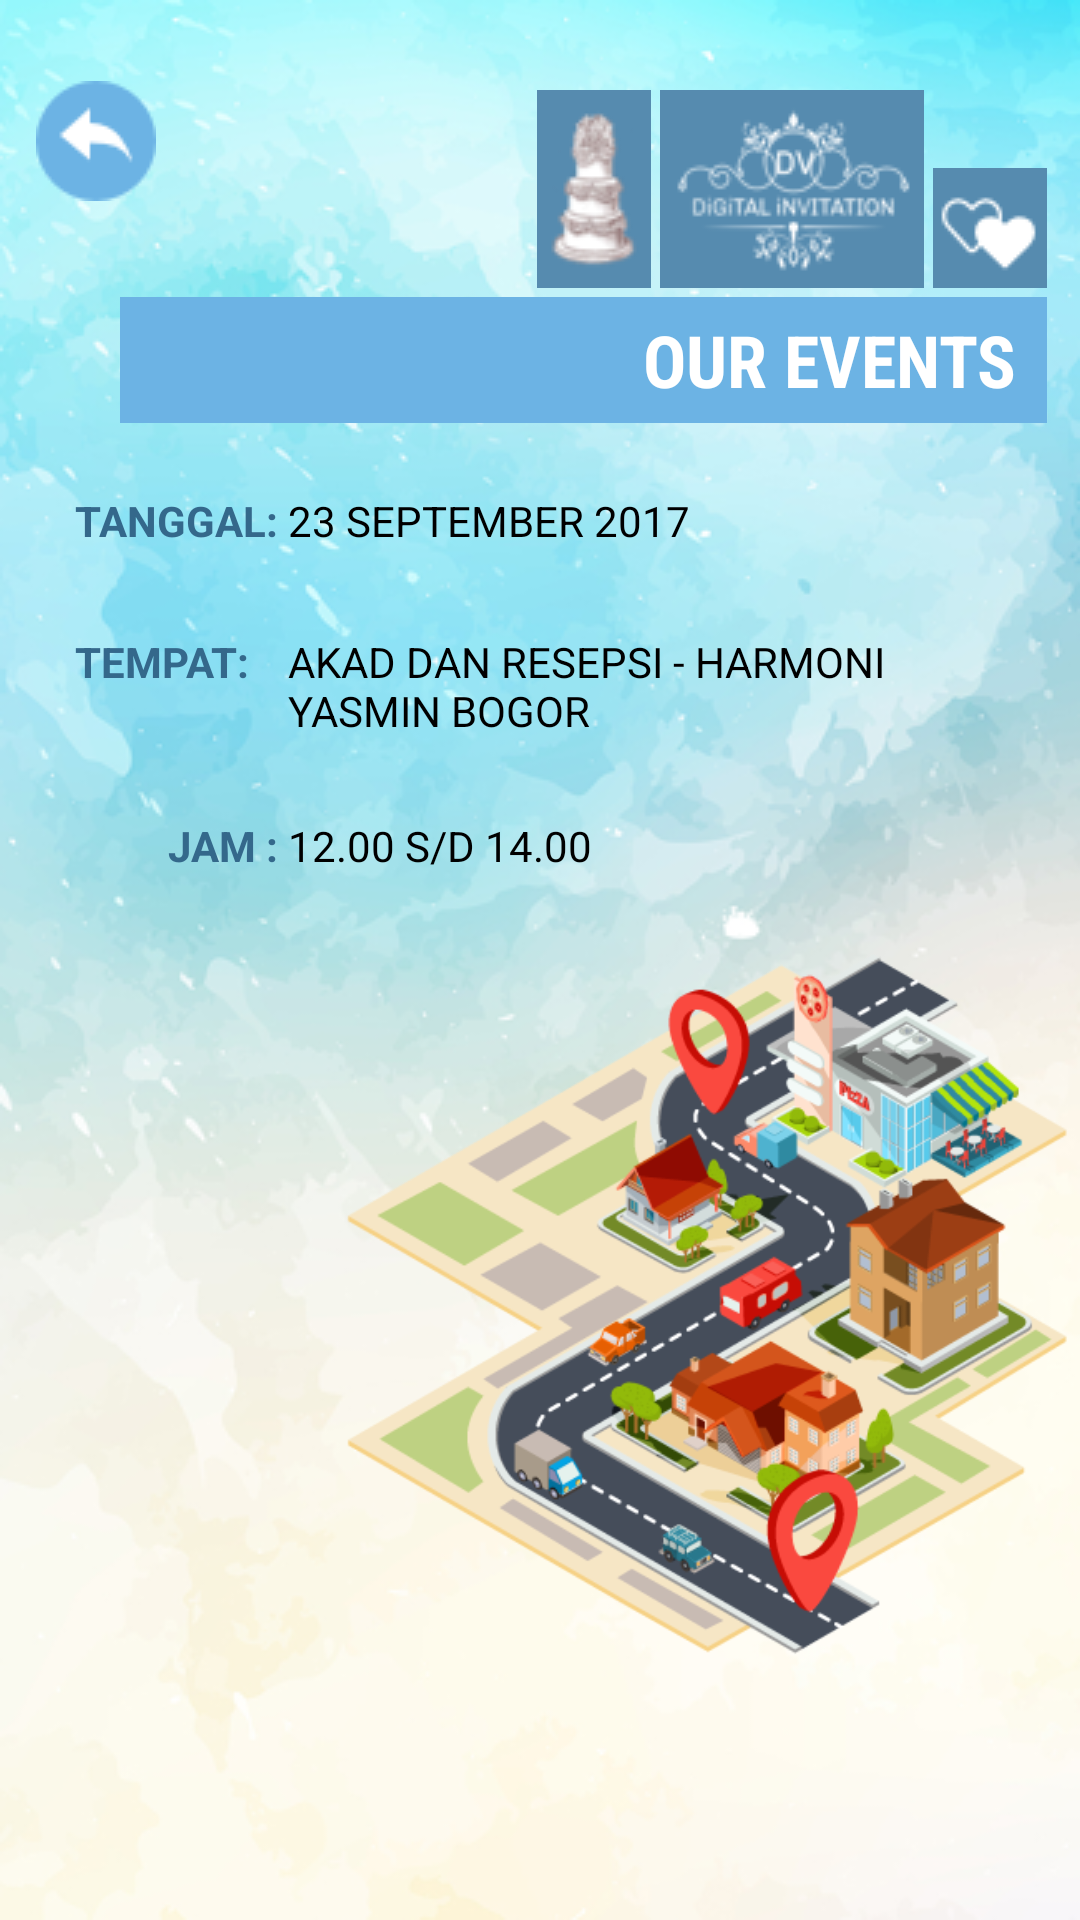

Where to tap for icons on this 1080 × 1920 app screen, as (x=x, y=y):
back: (x=96, y=141)
cake: (x=594, y=189)
hearts: (x=990, y=228)
